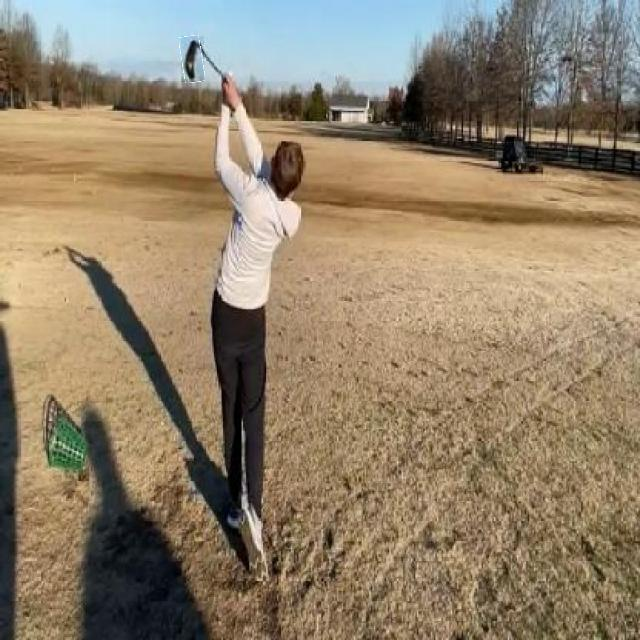club head: (181, 36, 204, 82)
